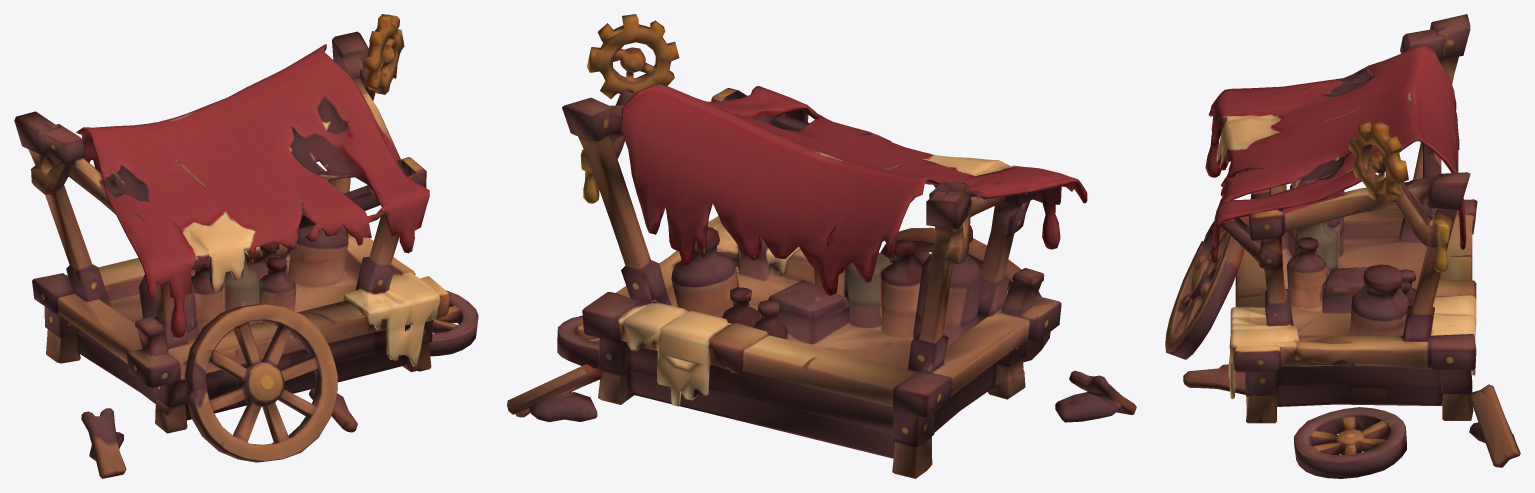
The model's file is Kit_Wagon.fbx.
3 renders of one model, left to right at view 1: azimuth 30°, elevation 25°; view 2: azimuth 150°, elevation 25°; view 3: azimuth 270°, elevation 25°, orthographic. The views are drawn at different scales.
Visible parts, largest first — view 1: tripo_node_03e5d371; view 2: tripo_node_03e5d371; view 3: tripo_node_03e5d371.
Boxes of the visible parts, x1,y1,x2,y2 form: tripo_node_03e5d371: (14,14,478,478); tripo_node_03e5d371: (507,14,1136,478); tripo_node_03e5d371: (1165,14,1520,478).
Bounding box in the file's own units: 97.76 × 67.53 × 69.06.
Materials: 1 (1 with a texture image).
